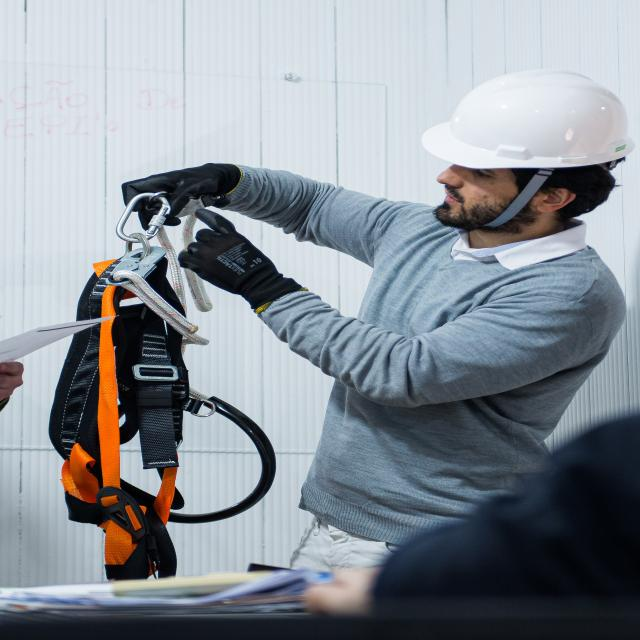capacete: (418, 67, 637, 171)
luva: (174, 206, 316, 315), (117, 160, 248, 234)
